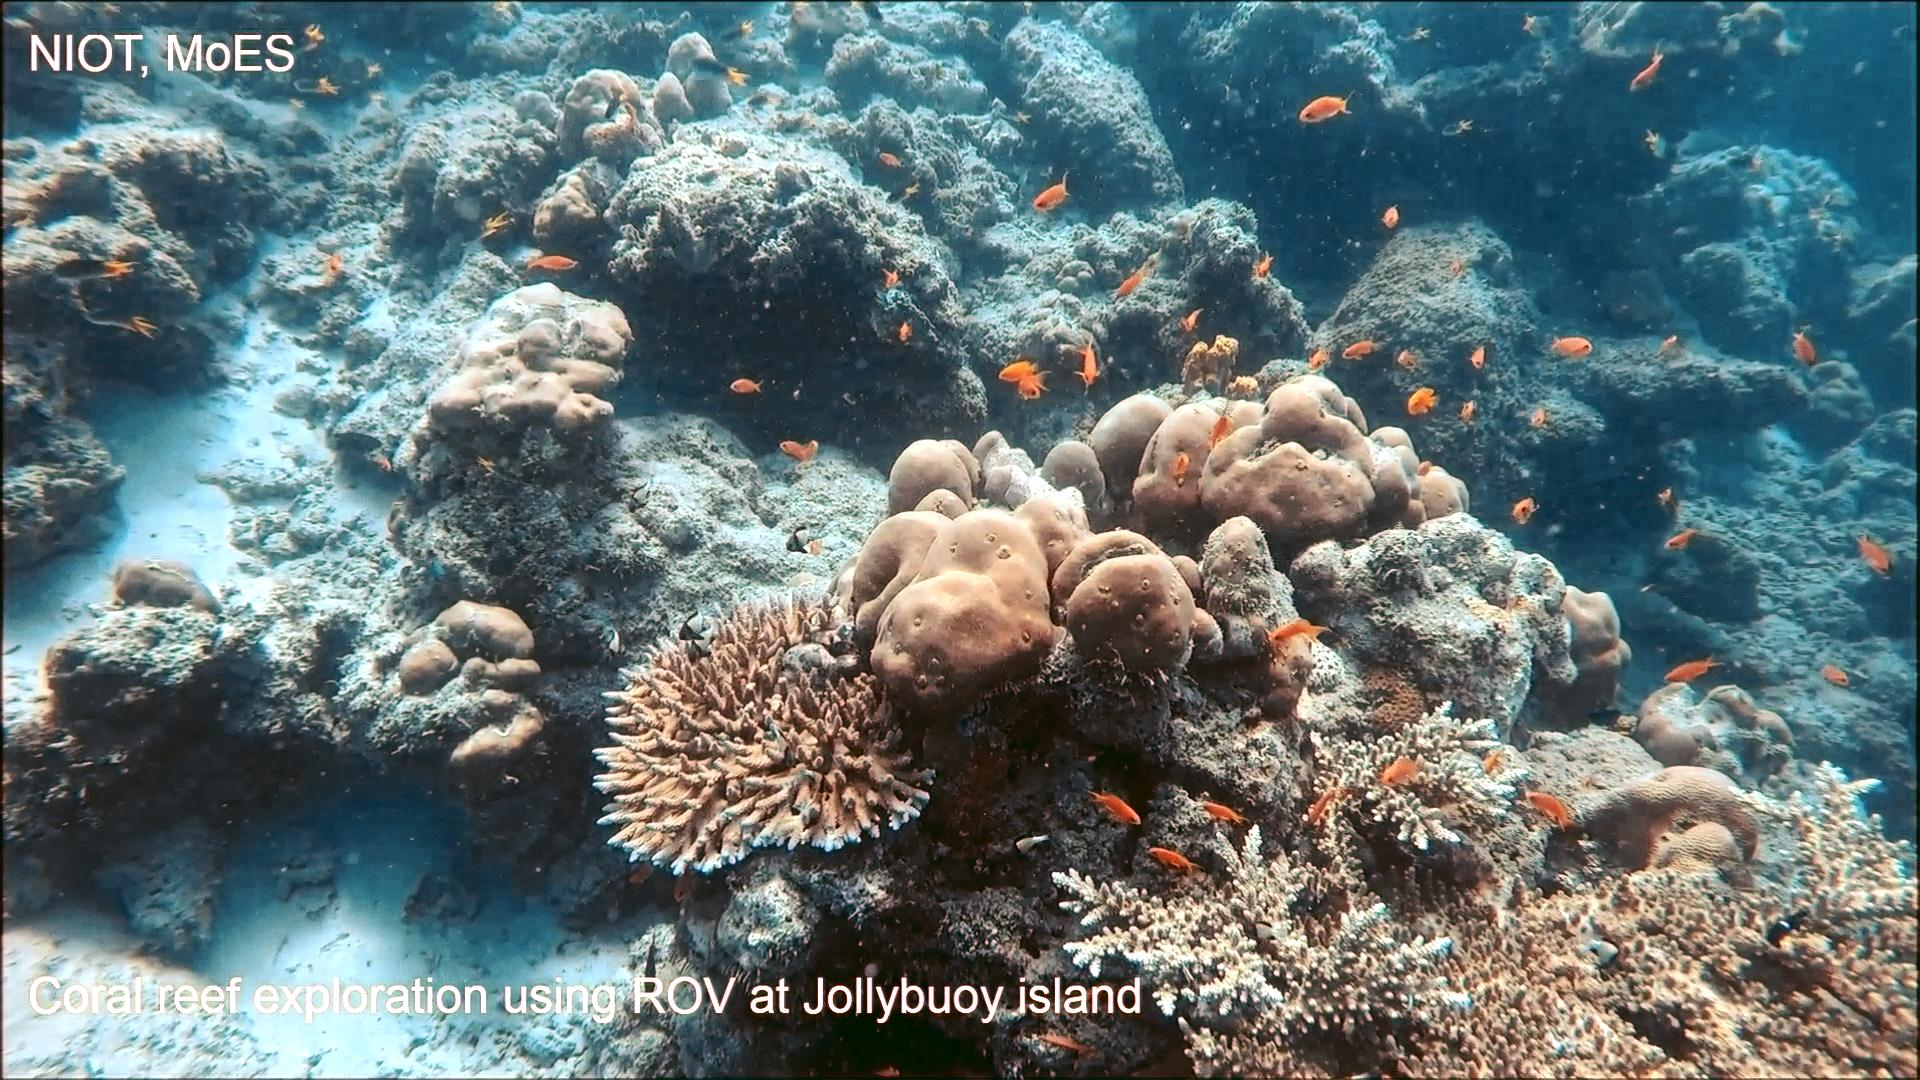Porites-Porites pukoensis: (828, 425, 1203, 729), (1067, 368, 1476, 551)
